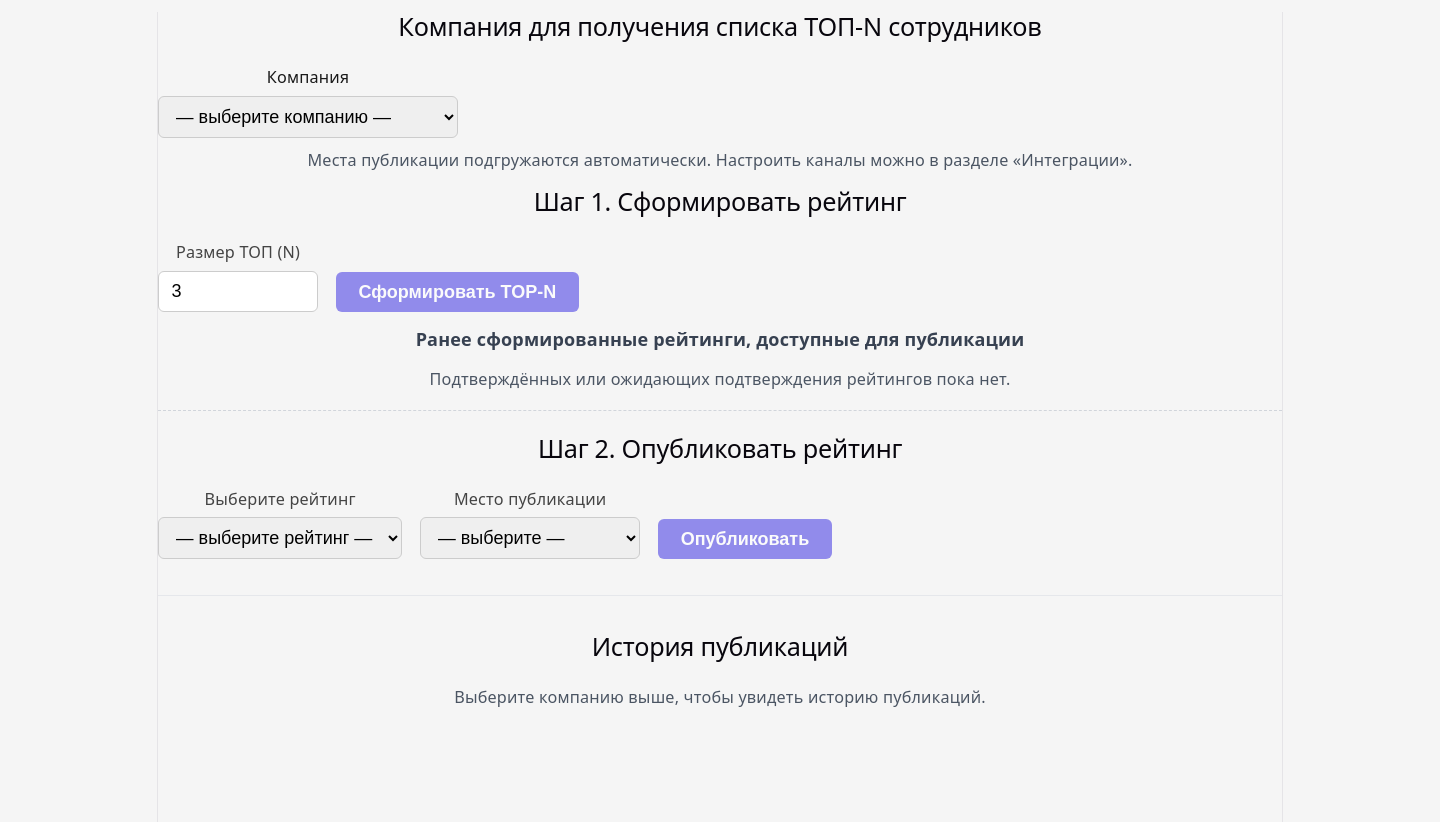
Test: PublicationsPage › показывает подсказку, если подтверждённых рейтингов нет
Select "Тестовая компания" in the dropdown labelled "Компания": (308, 117) [158,96,458,138]
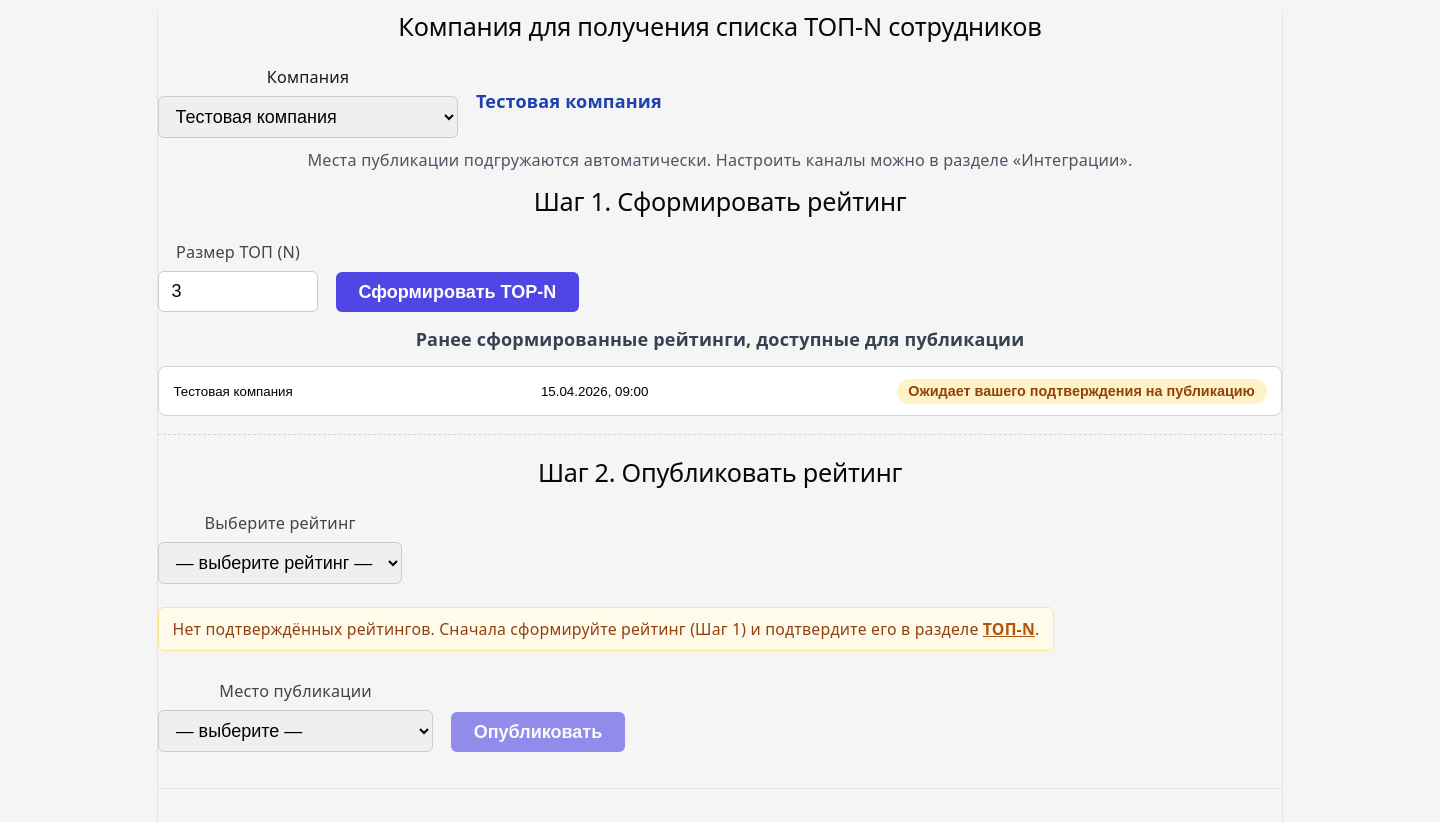
expect the button "Опубликовать" is disabled: met, box [451,712,625,752]
expect the text "Нет подтверждённых рейтингов" is shown: met, box [172,618,978,640]
